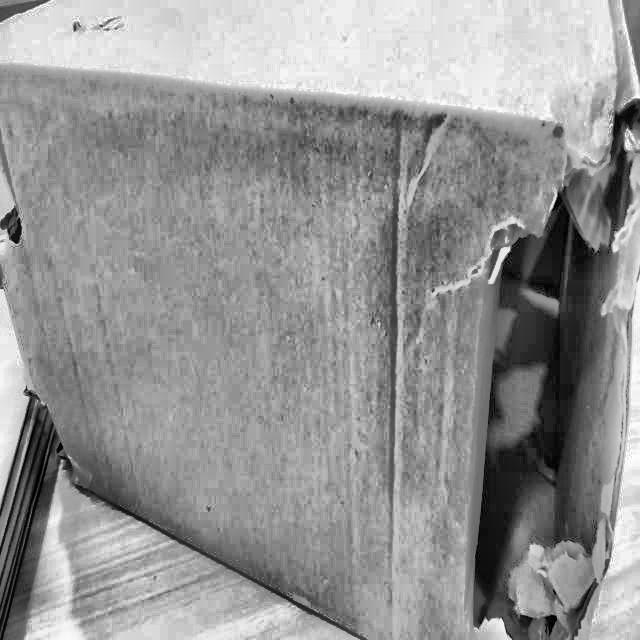box: (0, 0, 639, 639)
hole: (476, 80, 640, 640)
